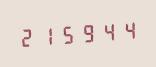five: (58, 21, 77, 47)
four: (98, 18, 117, 44), (118, 17, 137, 42)
nine: (78, 20, 97, 45)
one: (37, 22, 56, 48)
two: (17, 24, 36, 49)
